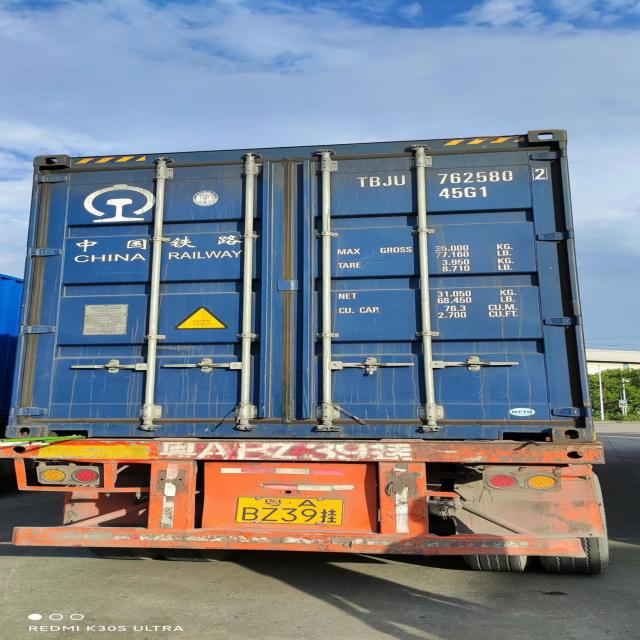seal: (360, 356, 383, 378)
